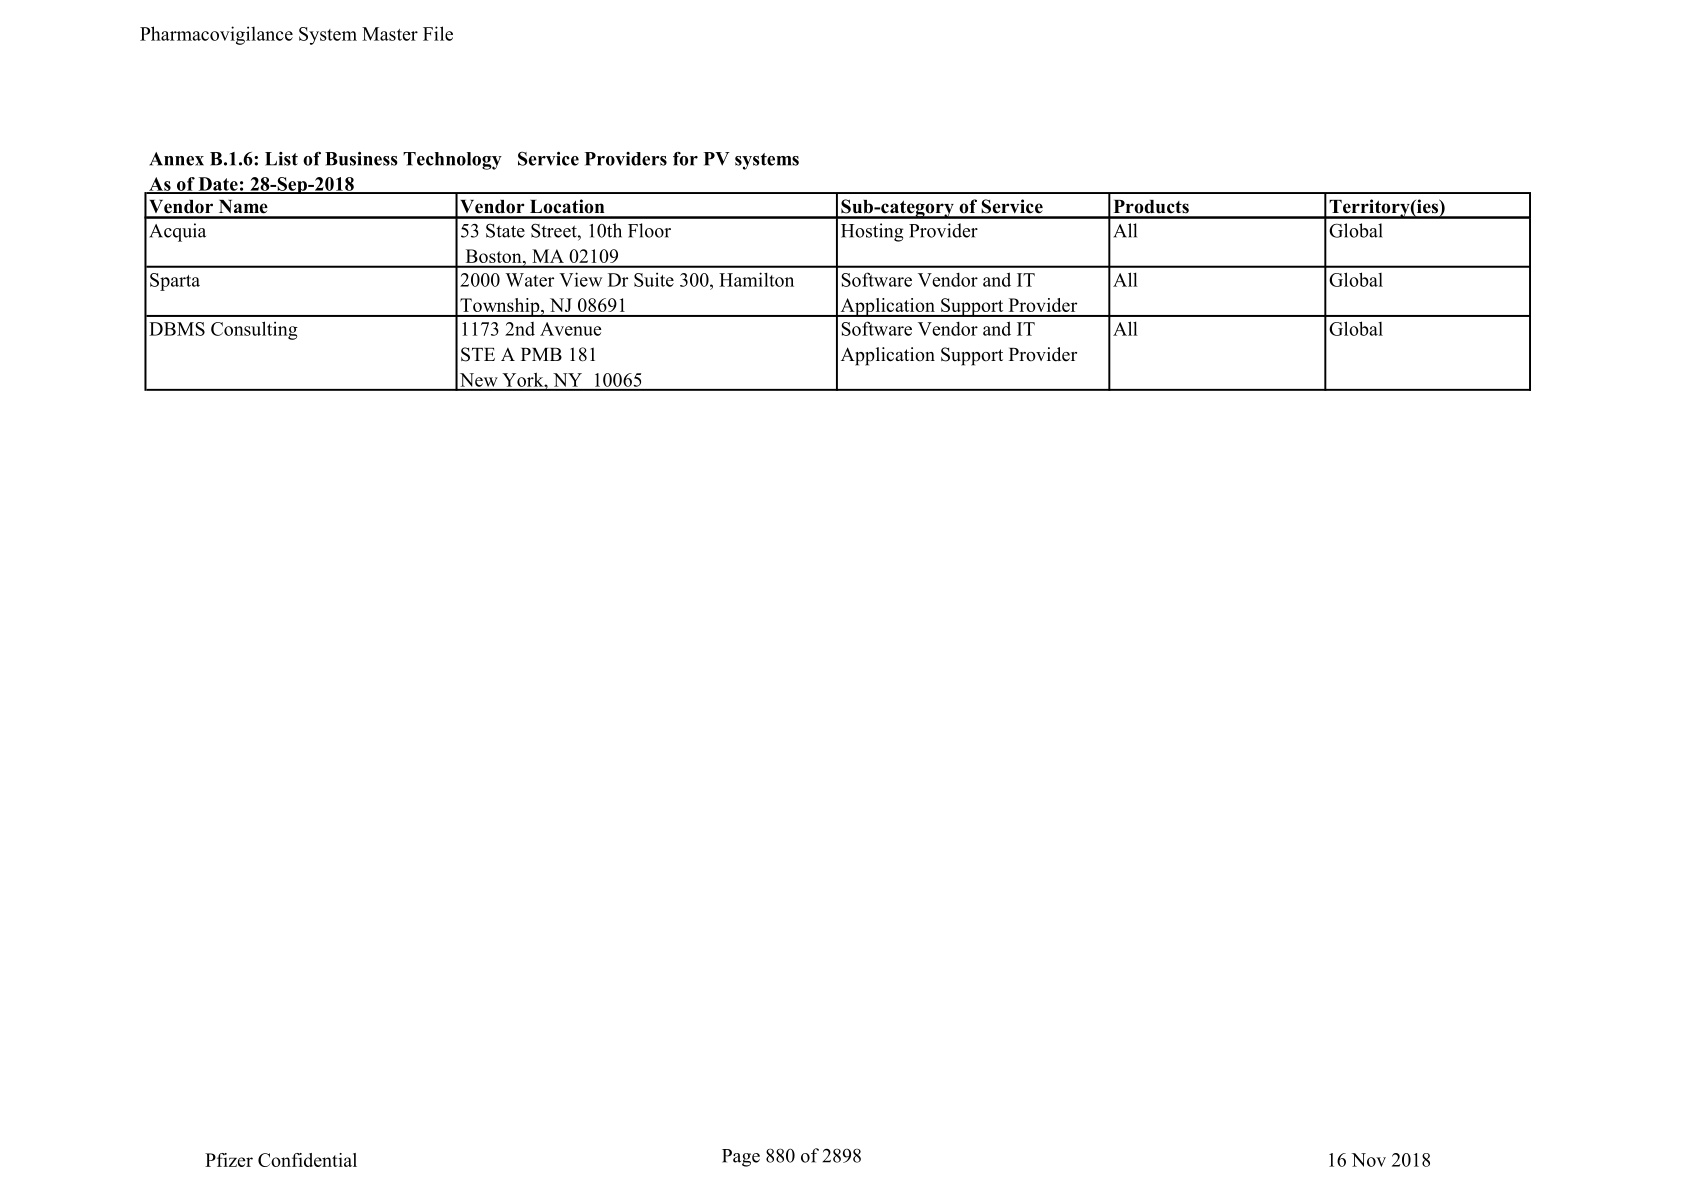full_lined: (143, 191, 1532, 391)
